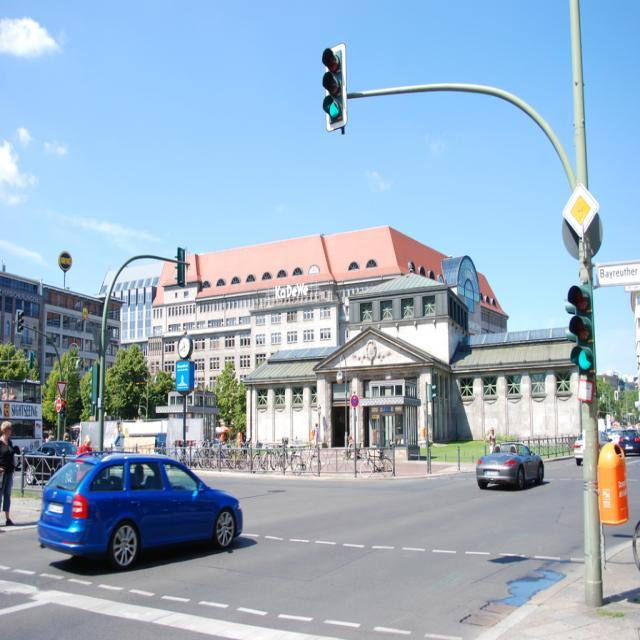off traffic light: (15, 306, 25, 336)
road_sign: (561, 181, 601, 238), (55, 382, 67, 400)
traffic light: (567, 283, 597, 375), (321, 47, 343, 125)
